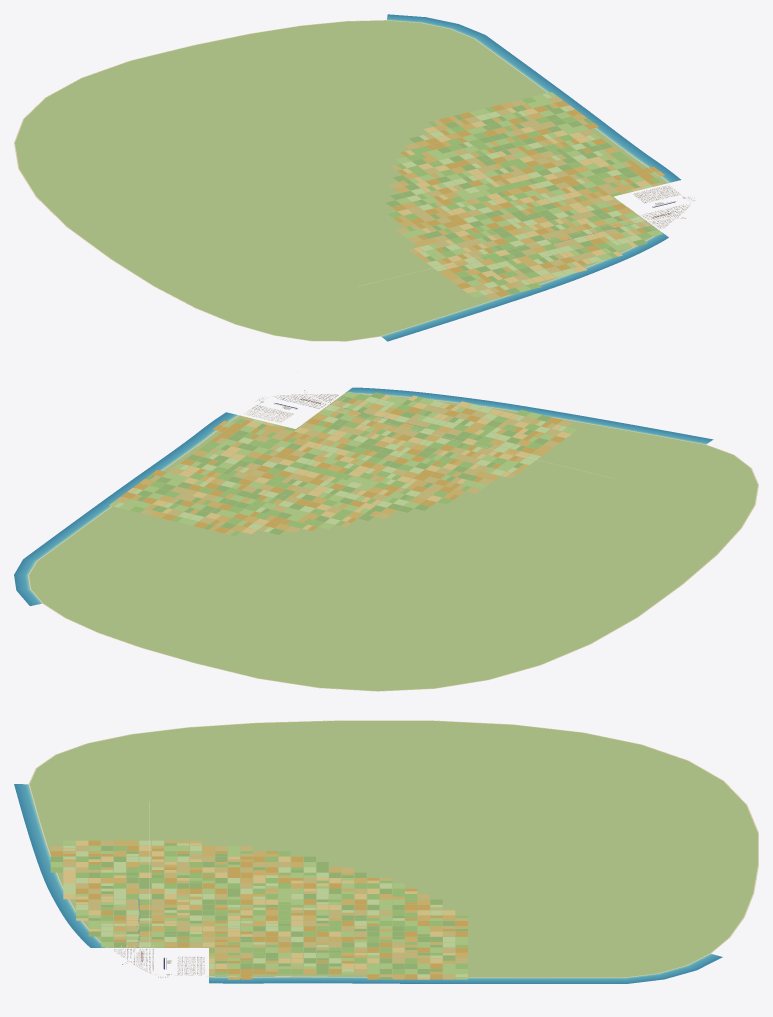
File: land.glb
The picture shows the model from 3 angles, top to bottom: view 1: azimuth 30°, elevation 25°; view 2: azimuth 150°, elevation 25°; view 3: azimuth 270°, elevation 25°; orthographic projection. The views are drawn at different scales.
Parts seen in each view (by area): view 1: decal-land, decal-fields, decal-lake-shore, decal-beach, decal-roads, buildings; view 2: decal-land, decal-fields, decal-lake-shore, decal-beach, decal-roads, buildings; view 3: decal-land, decal-fields, decal-lake-shore, decal-beach, buildings.
Boxes of the visible parts, bbox=[...] form: decal-land: bbox=[15, 20, 668, 340]; decal-fields: bbox=[386, 92, 664, 299]; decal-lake-shore: bbox=[381, 14, 680, 341]; decal-beach: bbox=[14, 20, 668, 341]; decal-roads: bbox=[358, 152, 690, 286]; buildings: bbox=[634, 186, 694, 228]; decal-land: bbox=[29, 393, 757, 690]; decal-fields: bbox=[109, 391, 577, 535]; decal-lake-shore: bbox=[14, 387, 713, 605]; decal-beach: bbox=[28, 393, 758, 691]; decal-roads: bbox=[197, 394, 613, 478]; buildings: bbox=[247, 390, 338, 421]; decal-land: bbox=[29, 721, 757, 977]; decal-fields: bbox=[50, 840, 467, 979]; decal-lake-shore: bbox=[14, 784, 722, 983]; decal-beach: bbox=[28, 720, 758, 977]; buildings: bbox=[114, 949, 204, 977].
Size of the model in its own units: 69616 by 143 by 77679.
